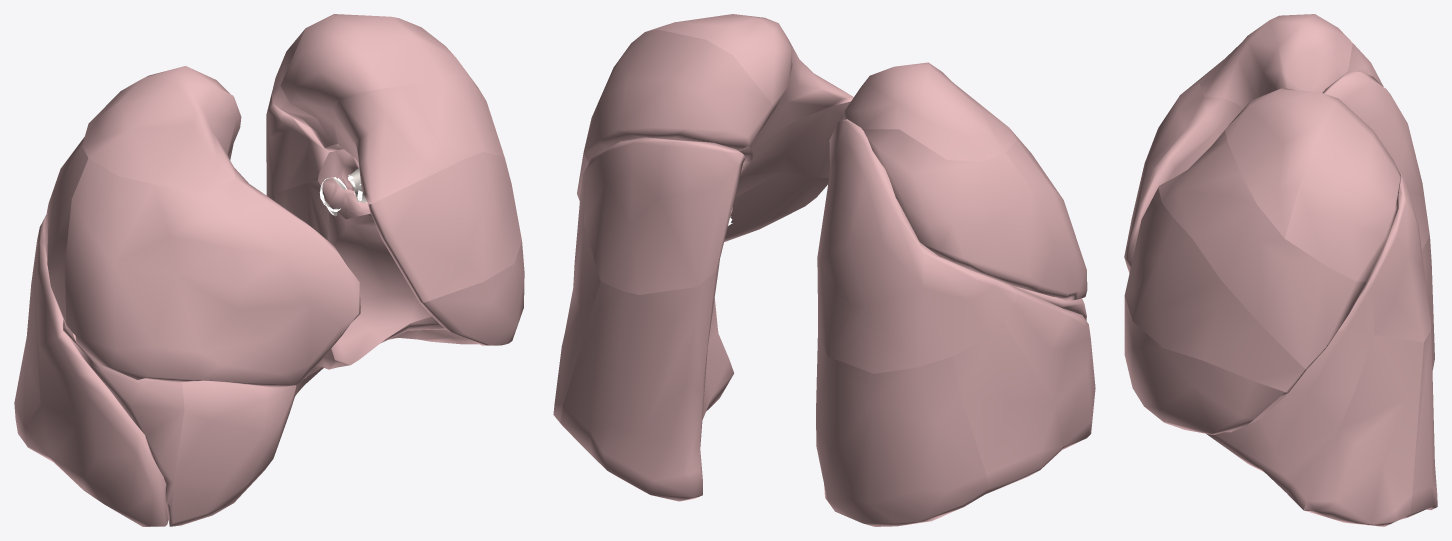
File: lungs.glb
3 views of the same model, side by side, from view 1: azimuth 30°, elevation 25°; view 2: azimuth 150°, elevation 25°; view 3: azimuth 270°, elevation 25° (orthographic). The views are drawn at different scales.
Bounding box in the file's own units: 0.2509 × 0.2227 × 0.1519.
